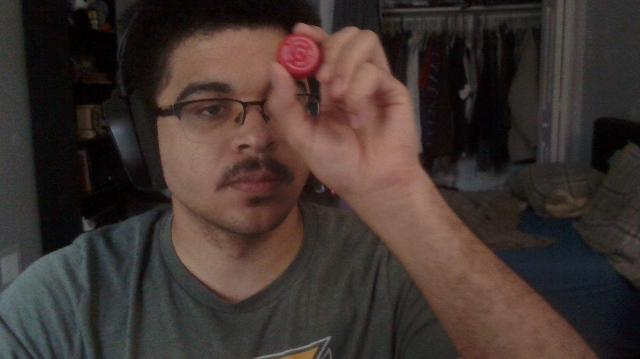cap: (276, 34, 322, 78)
